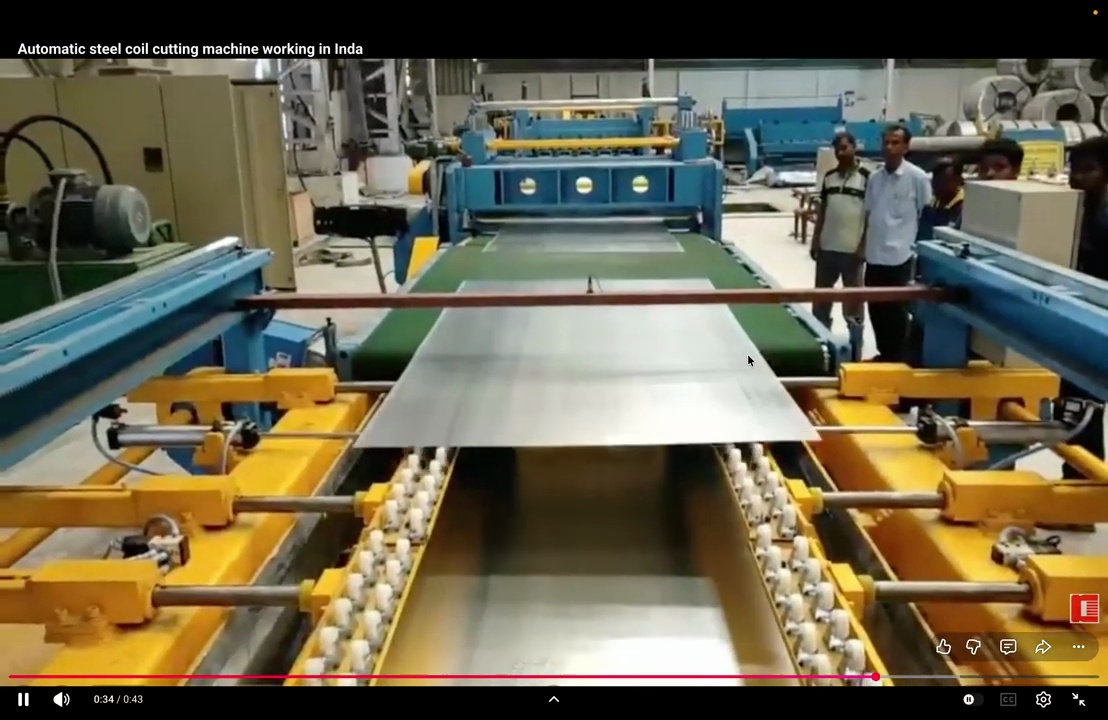steel plate: (356, 306, 816, 447), (485, 222, 682, 252)
